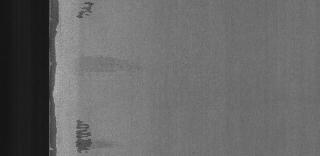oil spot: (69, 116, 95, 156), (74, 0, 100, 24)
